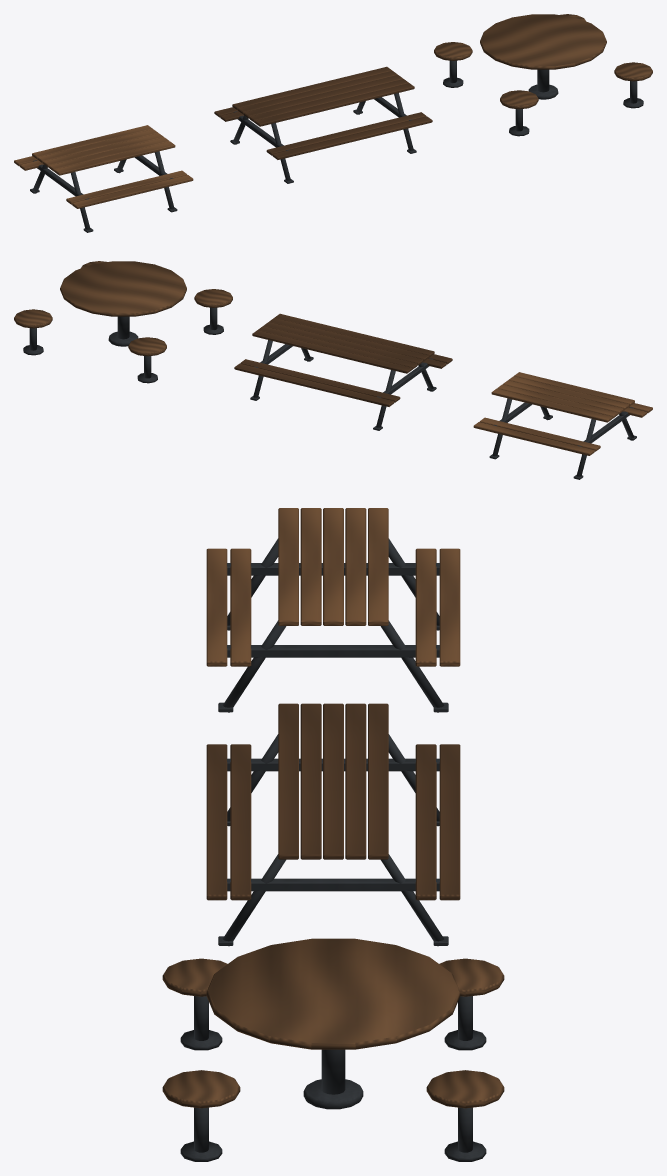
The model's file is picnic_table.glb.
The picture shows the model from 3 angles, top to bottom: view 1: azimuth 30°, elevation 25°; view 2: azimuth 150°, elevation 25°; view 3: azimuth 270°, elevation 25°; orthographic projection. The views are drawn at different scales.
Visible parts, largest first — view 1: picnic_table_v3, picnic_table_v2, picnic_table_v1; view 2: picnic_table_v3, picnic_table_v2, picnic_table_v1; view 3: picnic_table_v3, picnic_table_v2, picnic_table_v1.
Part boxes in pixels (bbox=[...]): picnic_table_v3: bbox=[434, 14, 652, 136]; picnic_table_v2: bbox=[214, 66, 432, 183]; picnic_table_v1: bbox=[14, 125, 193, 232]; picnic_table_v3: bbox=[14, 261, 232, 383]; picnic_table_v2: bbox=[234, 313, 452, 430]; picnic_table_v1: bbox=[473, 372, 652, 479]; picnic_table_v3: bbox=[162, 938, 504, 1161]; picnic_table_v2: bbox=[206, 703, 460, 946]; picnic_table_v1: bbox=[206, 508, 460, 712].
Bounding box in the file's own units: 8.84 × 0.8078 × 2.29.
Materials: 2 (2 with a texture image).
